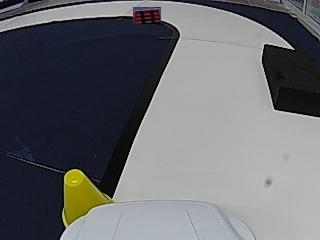block: (262, 43, 318, 116)
cone: (65, 169, 111, 204)
